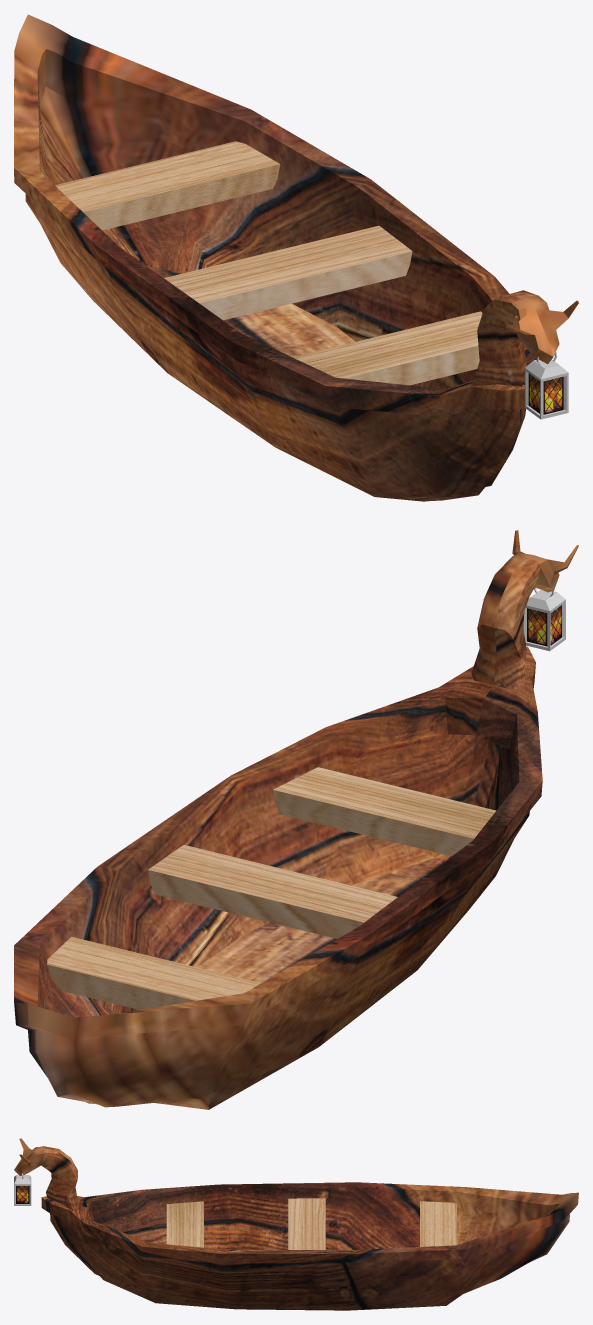
The model's file is boat.fbx.
The picture shows the model from 3 angles, top to bottom: view 1: azimuth 30°, elevation 25°; view 2: azimuth 150°, elevation 25°; view 3: azimuth 270°, elevation 25°; orthographic projection. The views are drawn at different scales.
Visible parts, largest first — view 1: boot, Seats, Lantern; view 2: boot, Seats, Lantern; view 3: boot, Seats, Lantern.
Boxes of the visible parts, bbox=[...] form: boot: bbox=[14, 14, 578, 501]; Seats: bbox=[55, 141, 482, 385]; Lantern: bbox=[525, 352, 568, 419]; boot: bbox=[14, 530, 578, 1109]; Seats: bbox=[47, 767, 495, 1009]; Lantern: bbox=[523, 587, 565, 651]; boot: bbox=[14, 1138, 578, 1310]; Seats: bbox=[166, 1198, 456, 1249]; Lantern: bbox=[14, 1173, 31, 1205].
Bounding box in the file's own units: 368 × 346 × 1223.
Materials: 3 (3 with a texture image).
